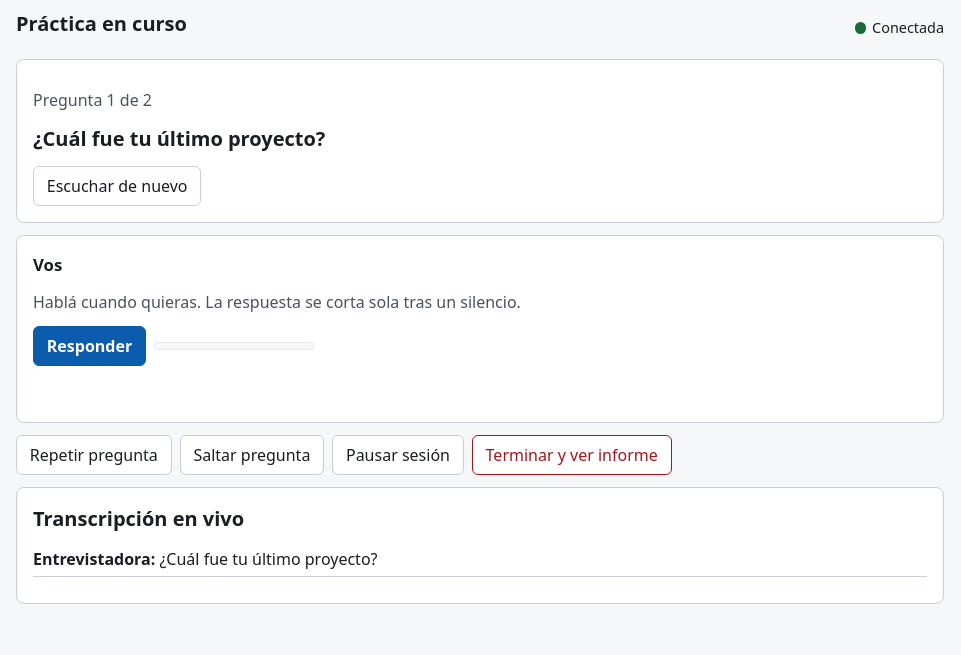
Test: SessionView › voz: muestra la pregunta, arma el TTS binario, avisa tts.played una vez y manda audio.end
Later steps or results of the test are not shown.
Check: the message with test id "conn" reads "Conectada", box x1=872 y1=18 x2=944 y2=37
Check: the text with test id "question" reads "¿Cuál fue tu último proyecto?", box x1=33 y1=125 x2=325 y2=152
Step 1. Click the button with test id "answer-toggle" → point(90, 346), box x1=33 y1=326 x2=146 y2=366
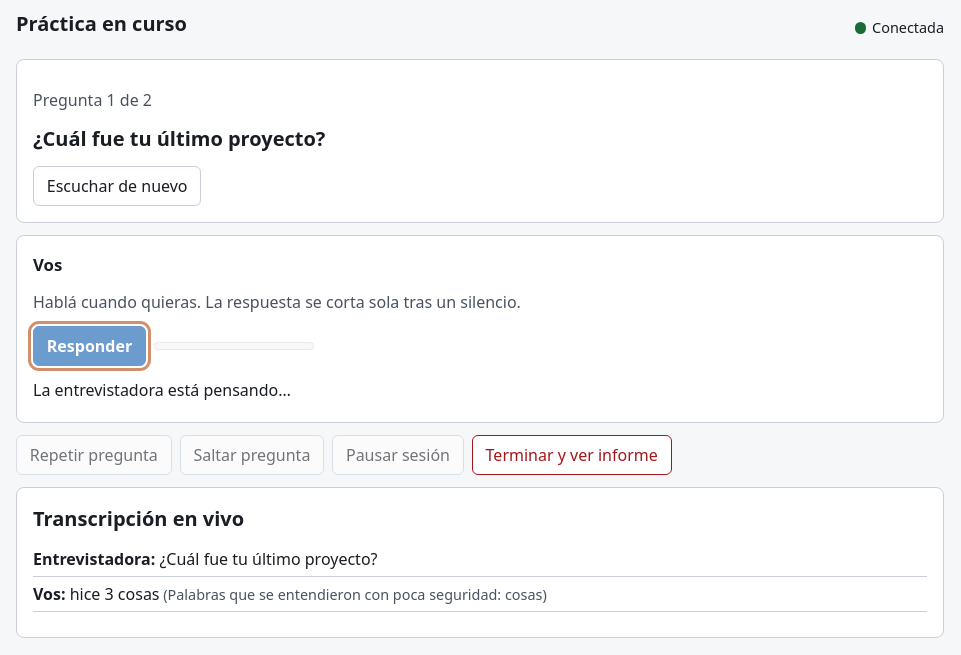
Check: the message with test id "answer-status" reads "La entrevistadora está pensando…", box x1=33 y1=379 x2=291 y2=401
Check: the list with test id "transcript" shows "hice 3 cosas", box x1=70 y1=583 x2=160 y2=605
Check: the list with test id "transcript" shows "(Palabras que se entendieron con poca seguridad: cosas)", box x1=168 y1=585 x2=542 y2=604
